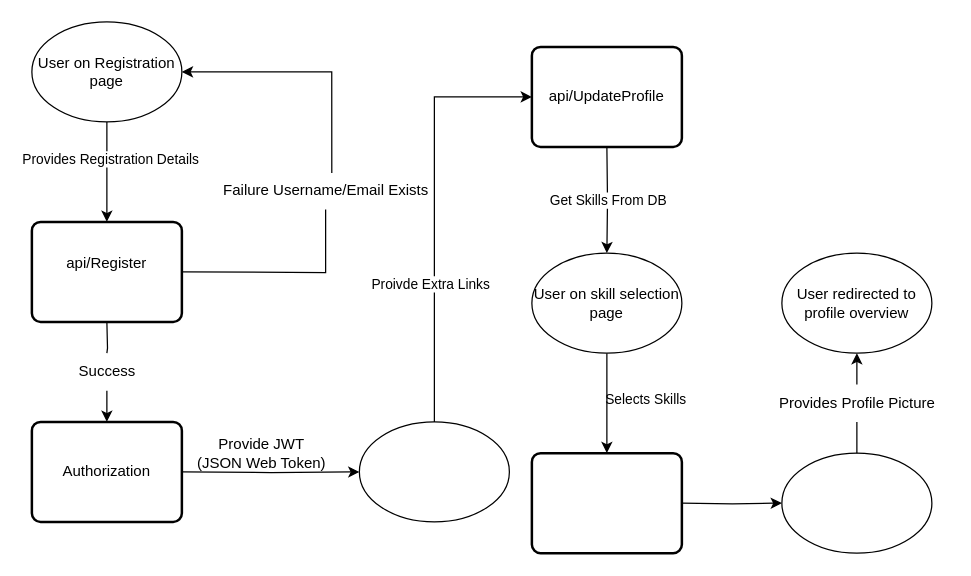
This 971x576 diagram has some shape labels left out. The shapes that lost their labels are listed below. From the top down, each one's centre as x and y in pixels, then its label:
point 433,471: User on extra links page
point 606,502: api/AssignSkills
point 856,502: User on Edit Profile Picture Page
